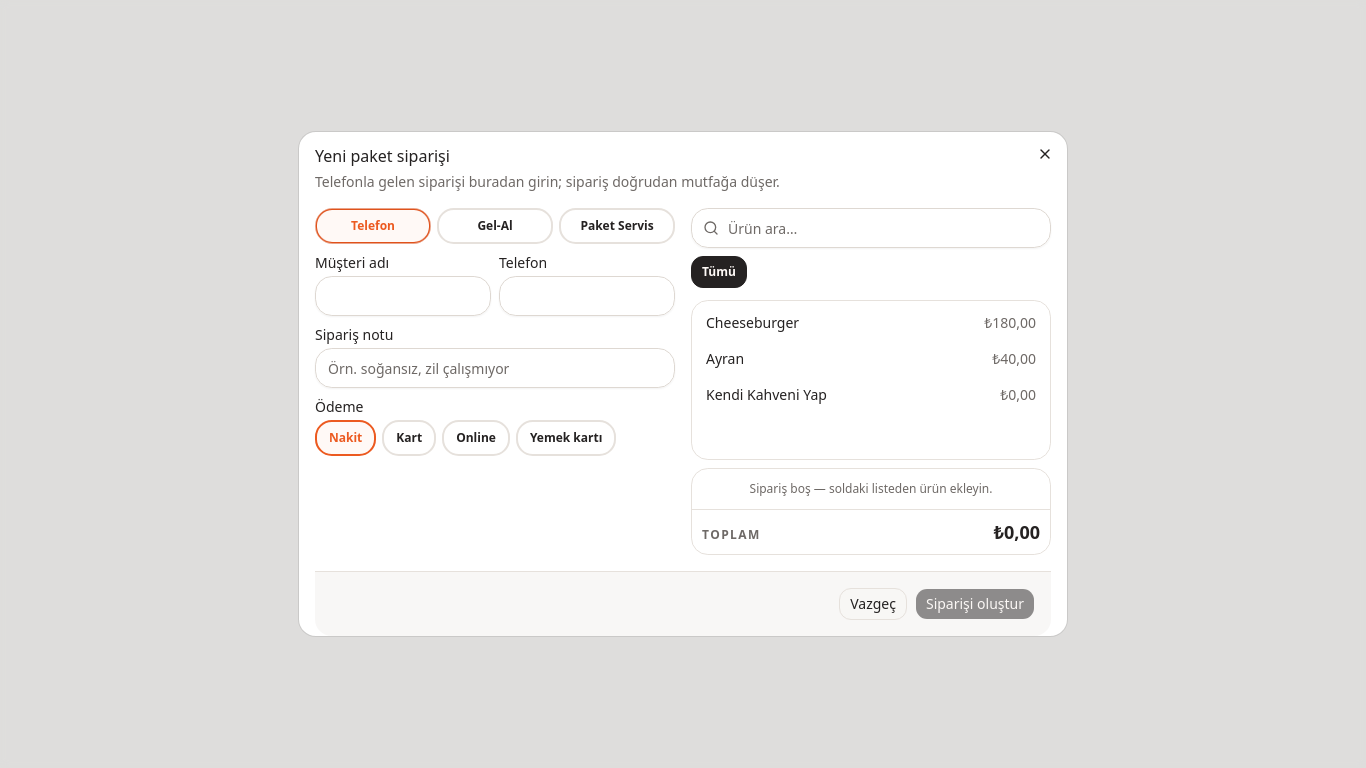
Test: NewDeliveryOrderDialog › totals the basket as items are added
Click the text "Cheeseburger".
click(753, 323)  # box left=706, top=313, right=799, bottom=333
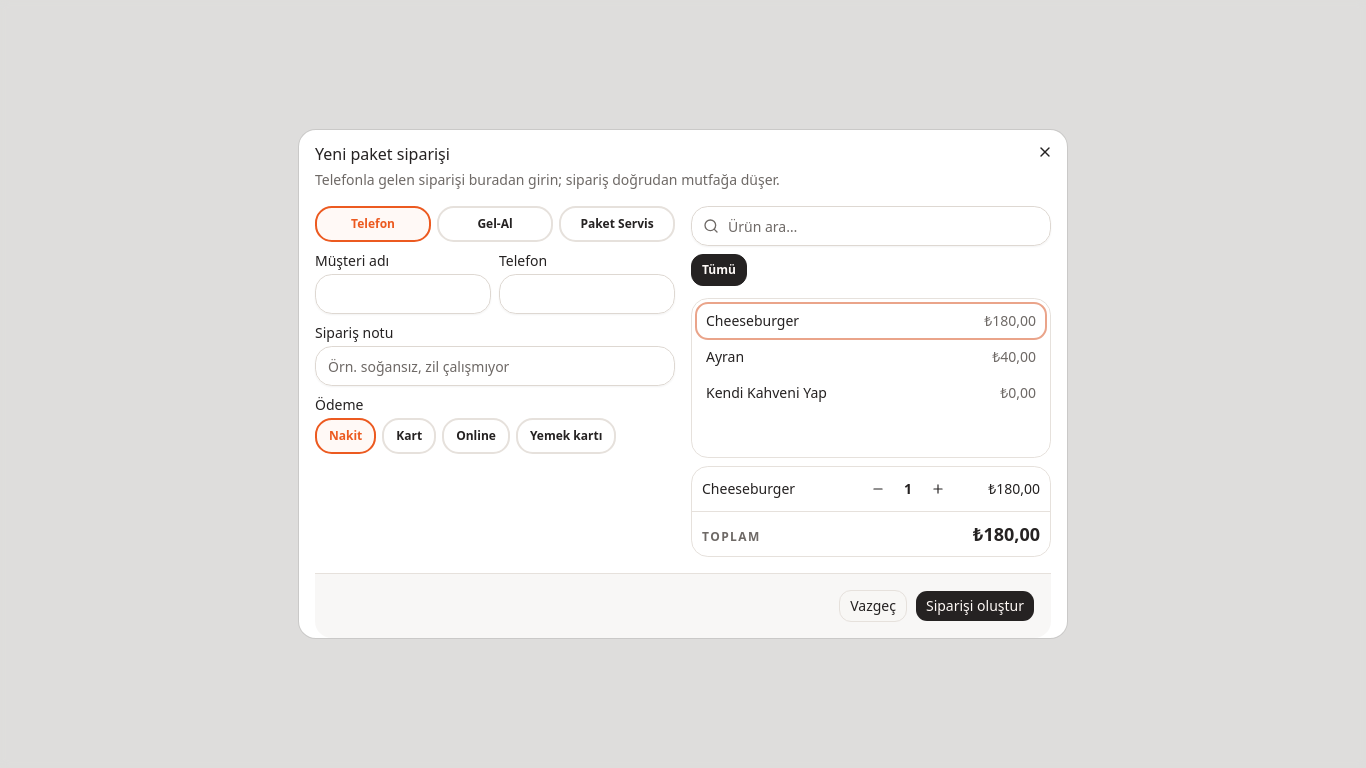
Click the button named "Cheeseburger adet artır".
click(938, 489)  # box left=924, top=475, right=952, bottom=503
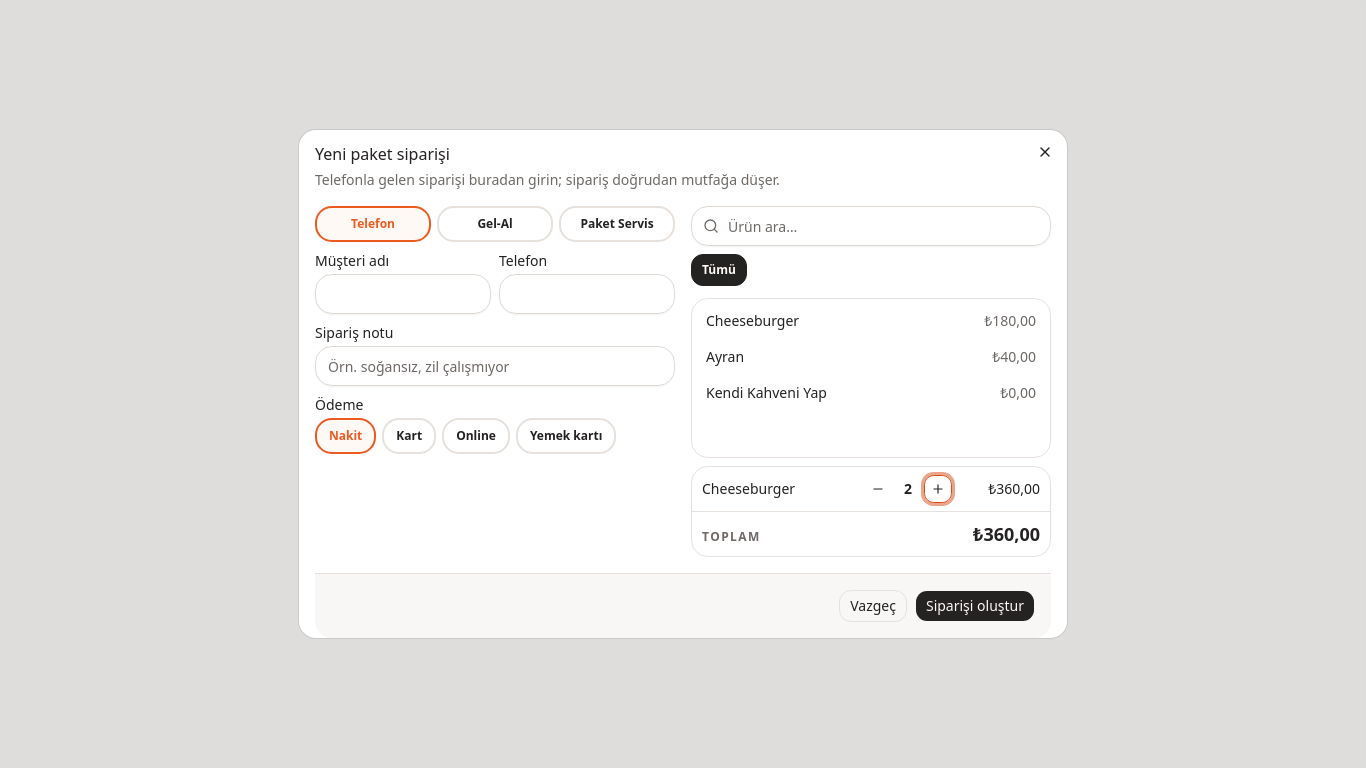
Click the text "Ayran".
click(725, 357)  # box left=706, top=347, right=744, bottom=367
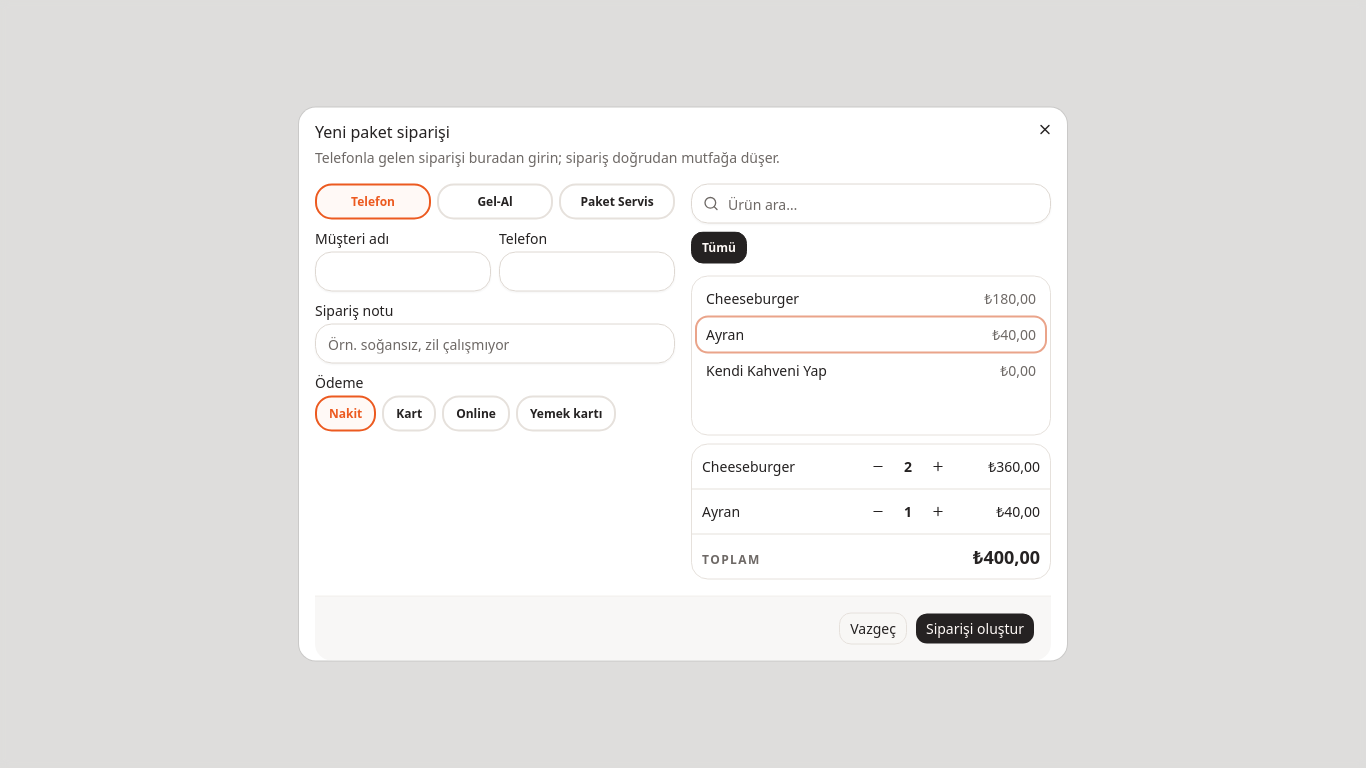
Now the text "₺400,00" is shown, box left=973, top=542, right=1040, bottom=570
